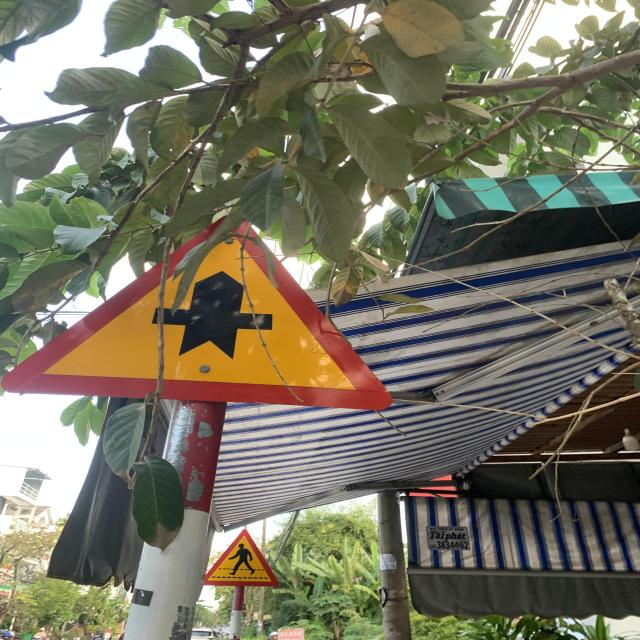Duong_Nguoi_Di_Bo_Sang_Ngang: (201, 528, 277, 586)
